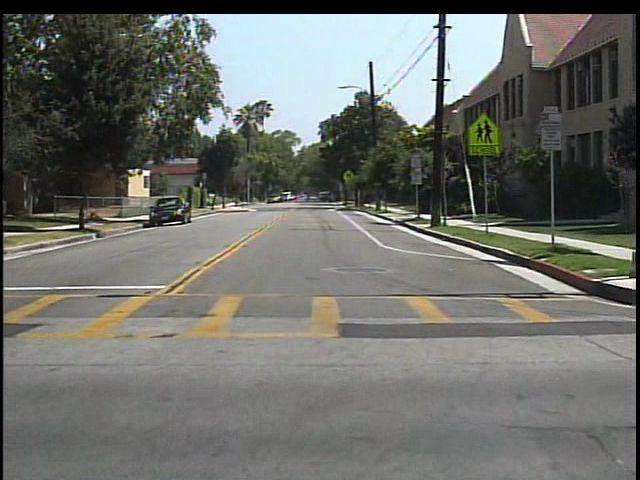person: (301, 190, 316, 208)
